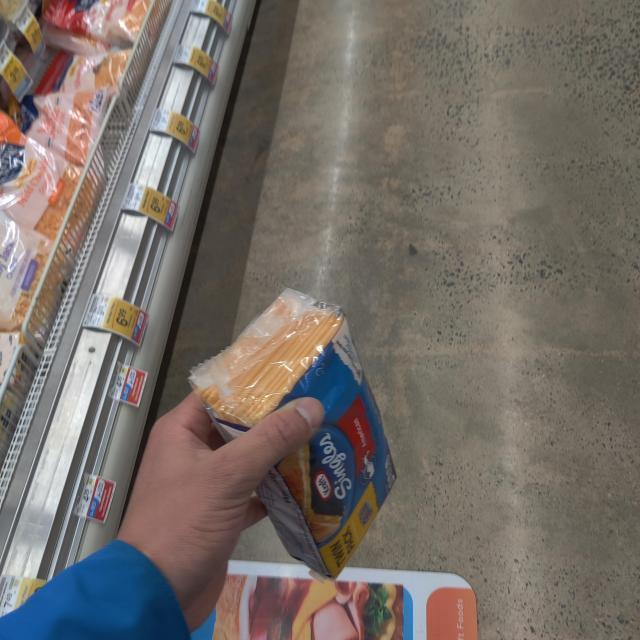Cheese: (197, 290, 406, 572)
